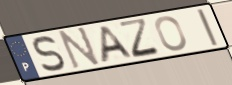A: (98, 24, 137, 65)
I: (194, 7, 221, 48)
N: (57, 25, 103, 71)
O: (154, 15, 189, 53)
S: (32, 34, 68, 74)
Z: (116, 16, 164, 60)
